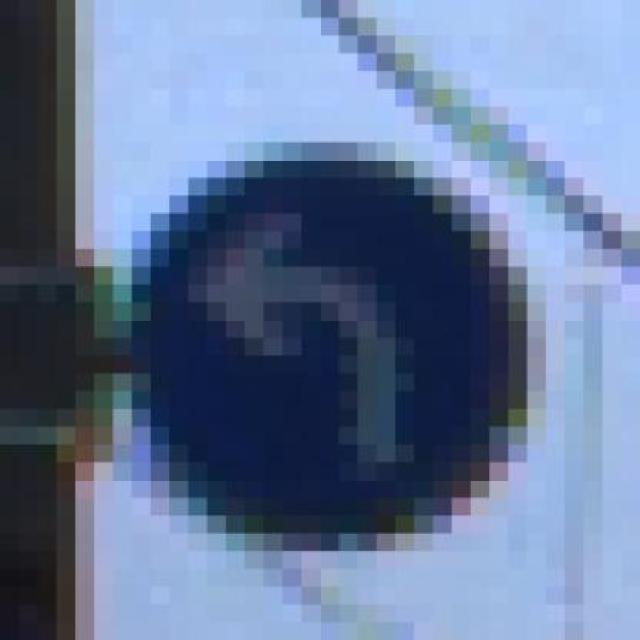Turn left ahead: (132, 125, 566, 569)
